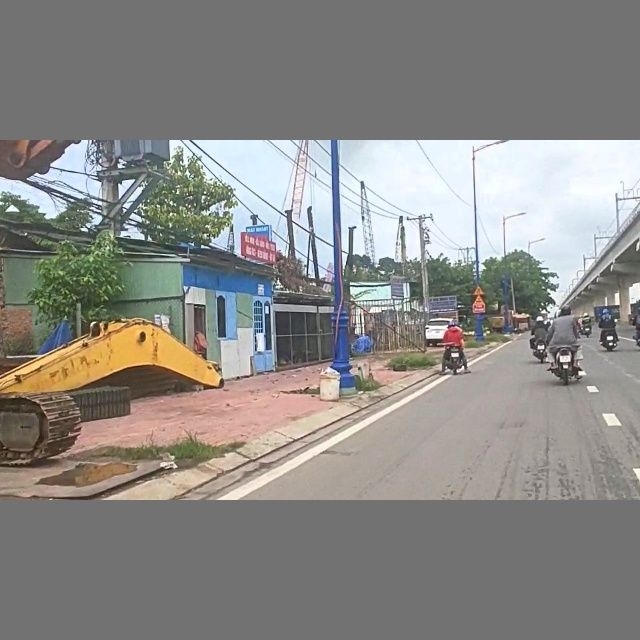W.203c: (472, 284, 485, 295)
W.245a: (471, 295, 485, 305)
